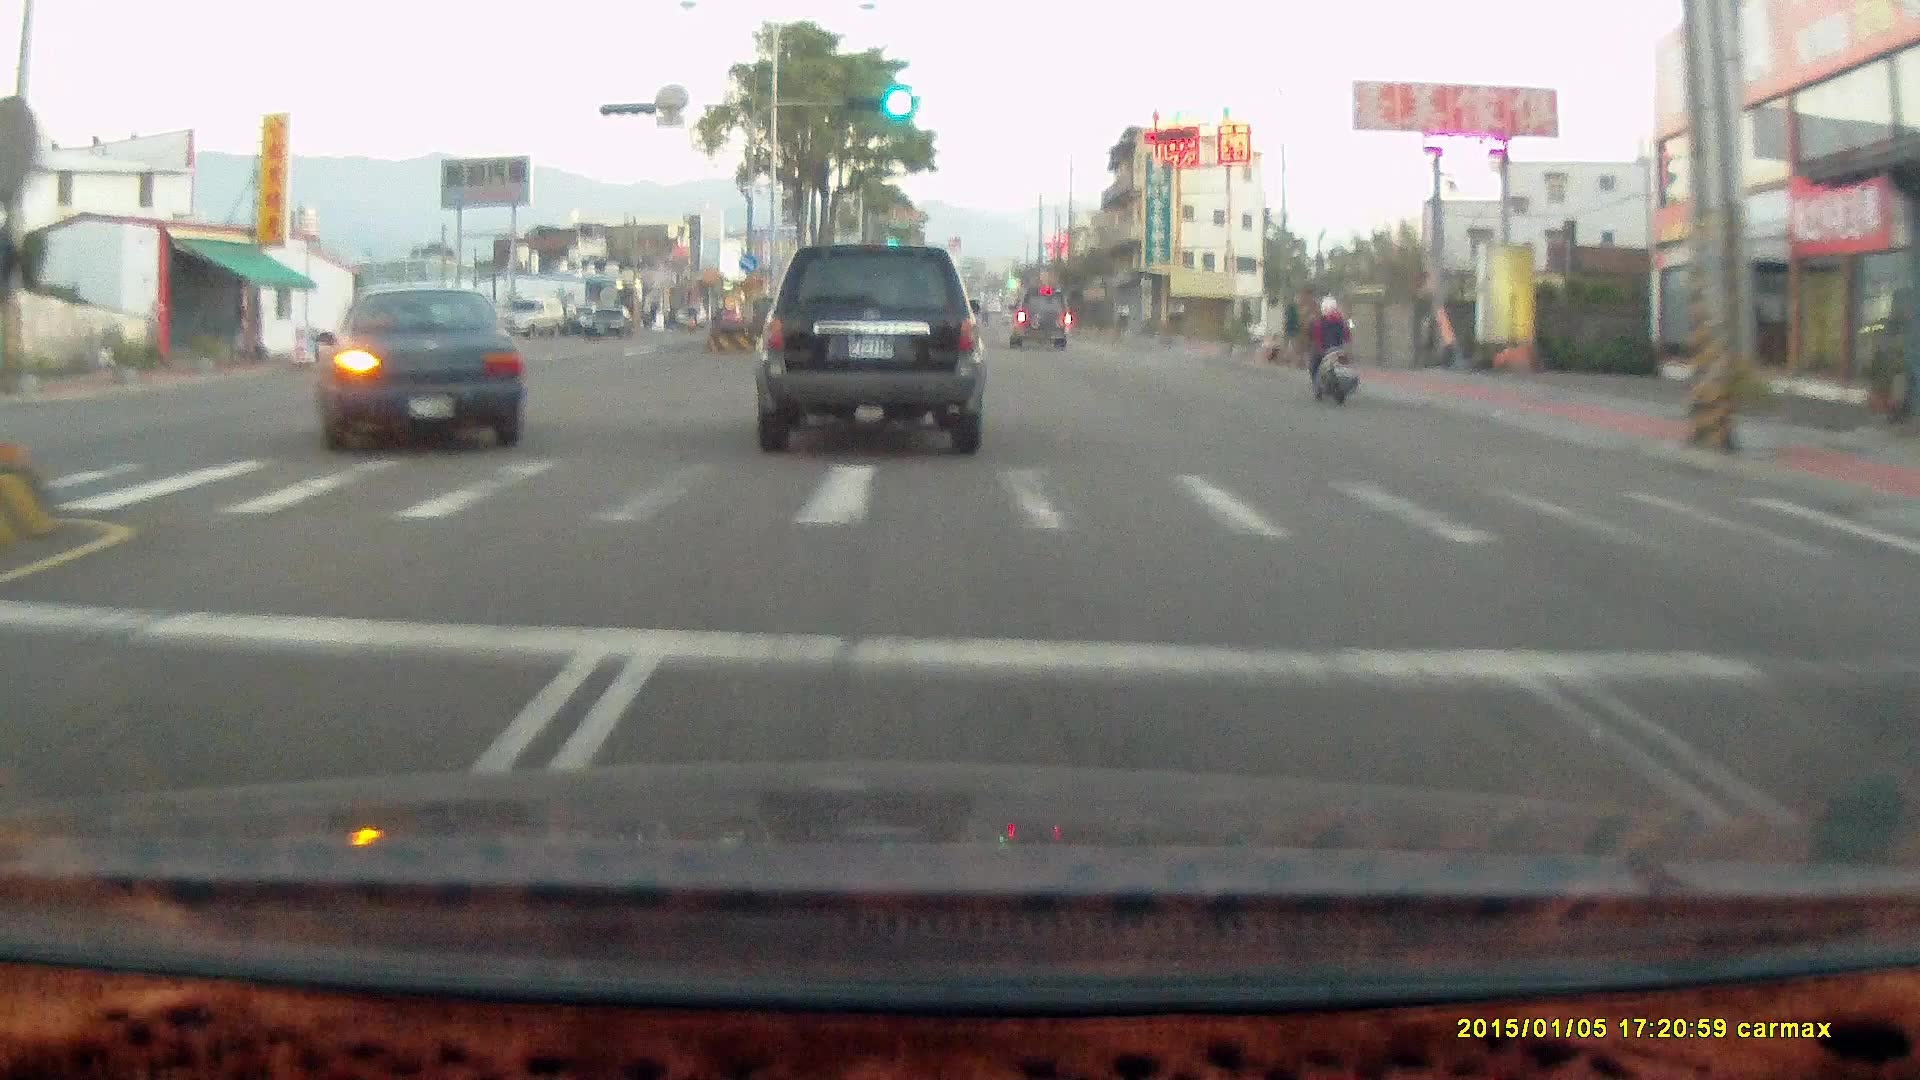rider: (1290, 287, 1372, 417), (1301, 290, 1359, 405)
vehicle: (759, 245, 989, 458), (753, 241, 982, 453), (312, 283, 523, 454), (320, 280, 524, 456), (1012, 287, 1074, 357), (1005, 290, 1069, 350), (491, 296, 564, 339), (580, 302, 632, 337)
